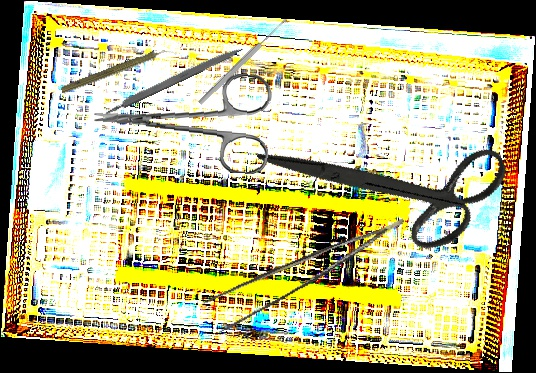Handpiece: (59, 41, 178, 99)
Iris Scissors: (255, 67, 525, 300), (90, 63, 274, 176)
Scalpel Handle: (101, 42, 245, 118)
Surgical Spoon: (197, 17, 289, 106)
Tissue Forceps: (195, 218, 418, 336)
